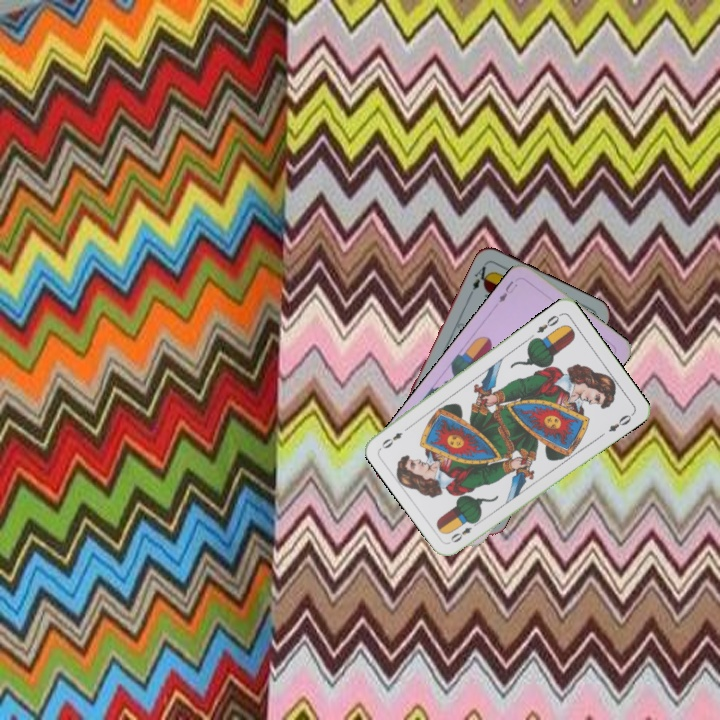EA: (468, 260, 493, 293)
EO: (447, 517, 482, 545), (533, 309, 564, 336)
EU: (495, 277, 520, 305)
